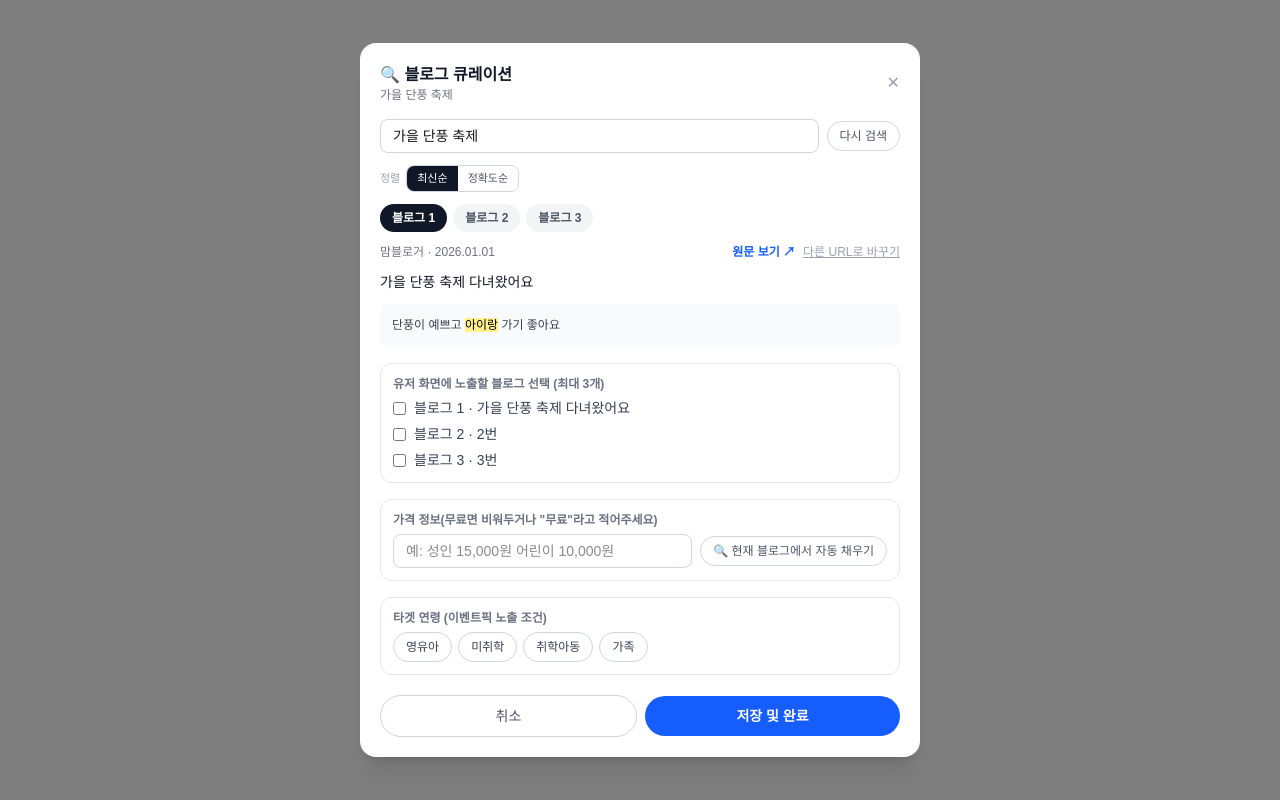
Scenario: EventBlogCurationModal › 이미 3개를 체크한 상태에서는 추가 체크박스가 비활성화된다
Expected: the text "가을 단풍 축제 다녀왔어요" is shown, [380,274,533,290]
Click the checkbox labelled "블로그 1 · 가을 단풍 축제 다녀왔어요".
click(400, 408)  # box [393,402,406,414]
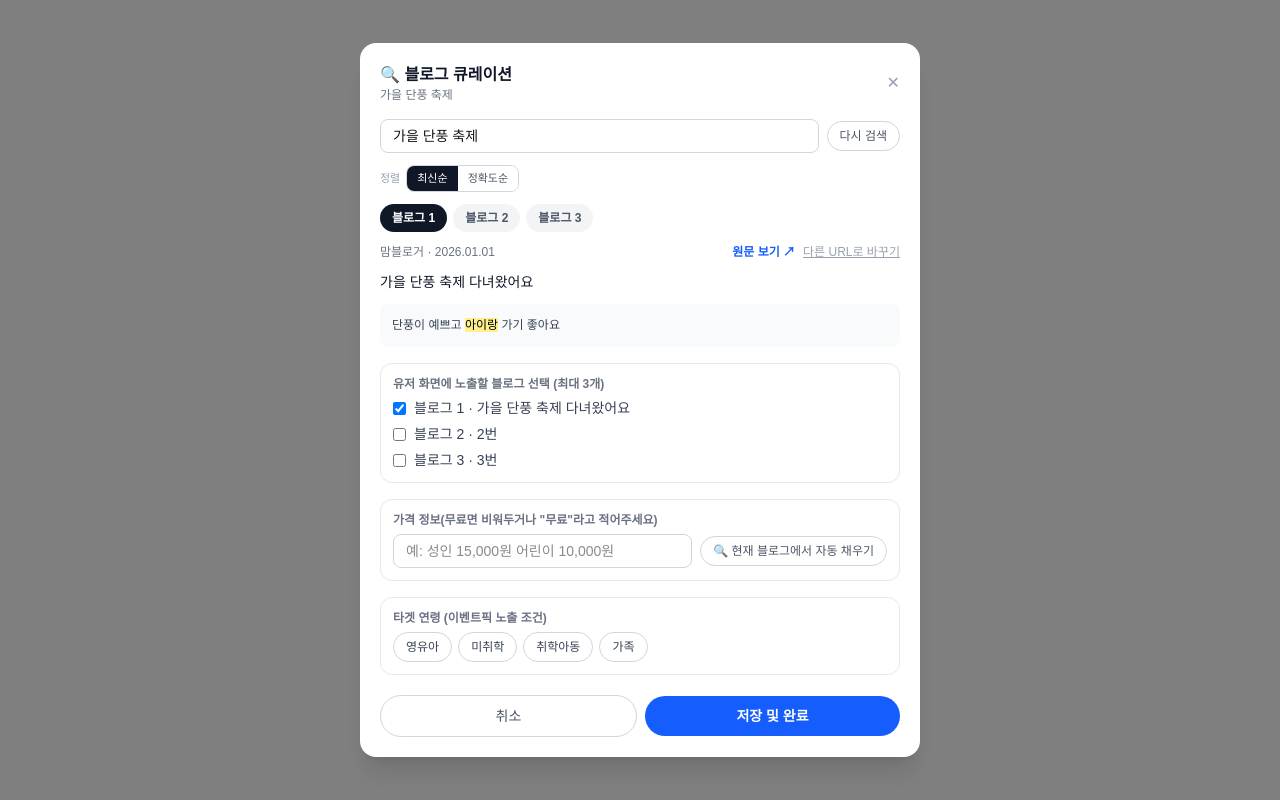
Click the checkbox labelled "블로그 2 · 2번".
click(400, 434)  # box [393,428,406,440]
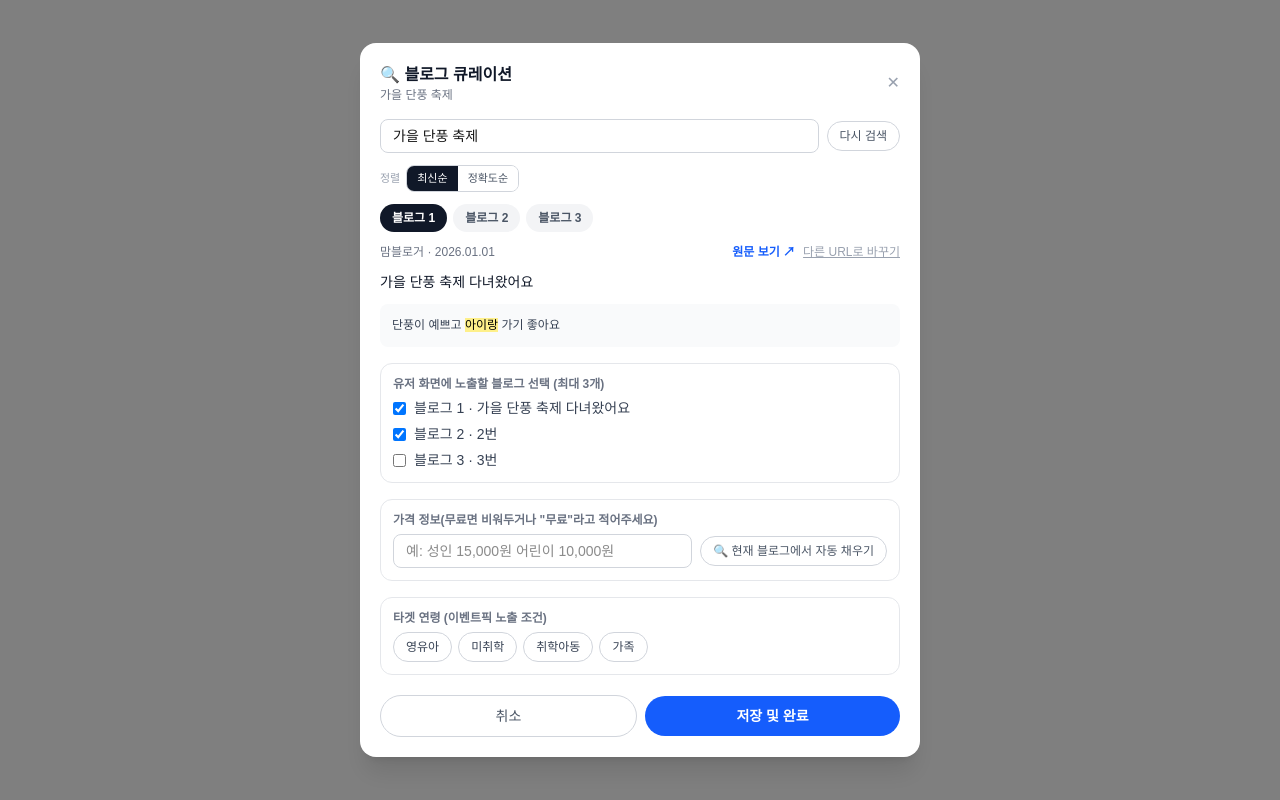
Click the checkbox labelled "블로그 3 · 3번".
click(400, 460)  # box [393,454,406,466]
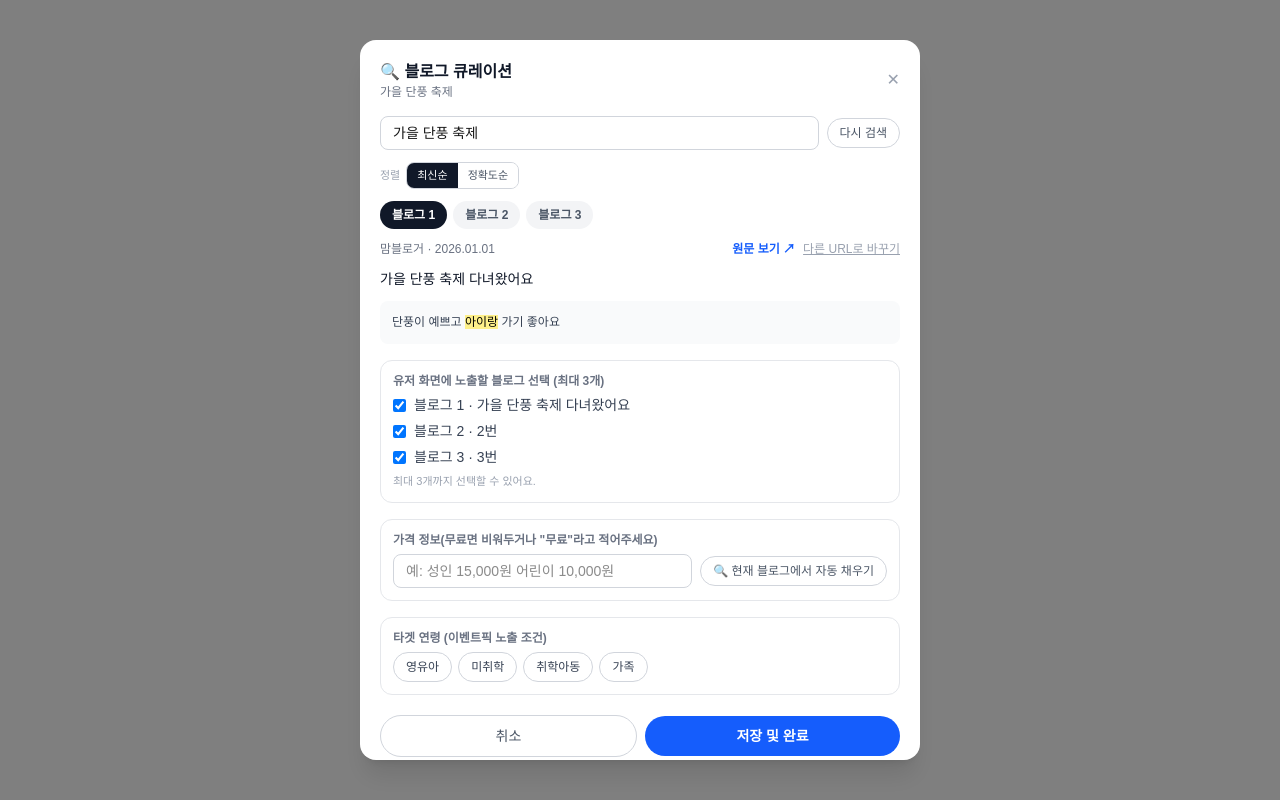
Expected: the checkbox labelled "블로그 1 · 가을 단풍 축제 다녀왔어요" is enabled, [393,398,406,412]
Expected: the text "최대 3개까지 선택할 수 있어요." is shown, [393,475,536,487]
